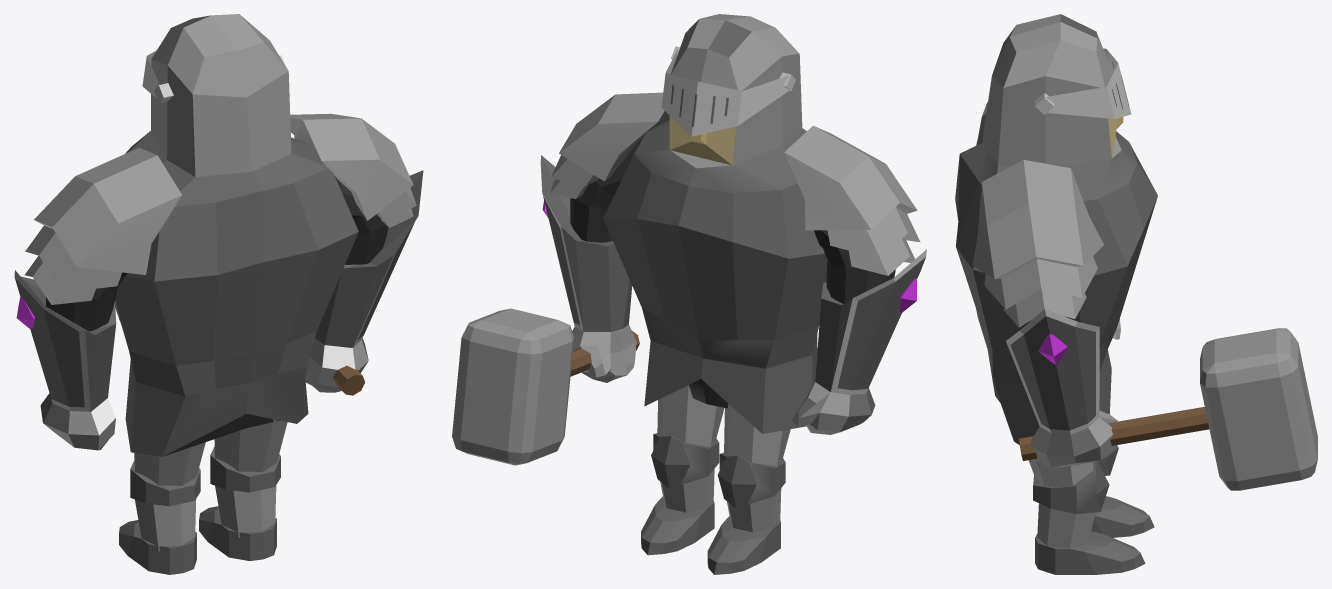
The model's file is NotAnimated.fbx.
3 views of the same model, side by side, from view 1: azimuth 30°, elevation 25°; view 2: azimuth 150°, elevation 25°; view 3: azimuth 270°, elevation 25° (orthographic). The views are drawn at different scales.
Visible parts, largest first — view 1: main_bodeh, shulder_ped, greave_bruh, armz_L, Cube_2, leg_R, Cube_2_2, Cube_3_2, Cylinder_1_2, Cylinder_1, leg_L, Cylinder_2 (+4 smaller); view 2: main_bodeh, greave_bruh, Cube, shulder_ped, halmut_clep, armz_L, Cube_2, leg_R, Cube_3_2, Cube_2_2, Cylinder_2, Cylinder_2_2 (+4 smaller); view 3: main_bodeh, Cube, shulder_ped, greave_bruh, Cube_3_2, Cube_2, halmut_clep, Cylinder, Cylinder_2_2, Cylinder_1_2, Cube_2_2, Cube_3 (+2 smaller).
Boxes of the visible parts, bbox=[...] form: main_bodeh: bbox=[115, 14, 358, 456]; shulder_ped: bbox=[34, 113, 413, 274]; greave_bruh: bbox=[14, 170, 423, 450]; armz_L: bbox=[46, 176, 388, 331]; Cube_2: bbox=[25, 187, 416, 292]; leg_R: bbox=[214, 419, 287, 472]; Cube_2_2: bbox=[119, 520, 196, 574]; Cube_3_2: bbox=[199, 506, 276, 560]; Cylinder_1_2: bbox=[215, 485, 276, 537]; Cylinder_1: bbox=[135, 499, 196, 551]; leg_L: bbox=[134, 442, 205, 485]; Cylinder_2: bbox=[130, 460, 200, 506]; main_bodeh: bbox=[603, 14, 827, 433]; greave_bruh: bbox=[540, 155, 926, 434]; Cube: bbox=[452, 308, 574, 465]; shulder_ped: bbox=[559, 92, 917, 230]; halmut_clep: bbox=[661, 46, 795, 136]; armz_L: bbox=[570, 140, 895, 303]; Cube_2: bbox=[551, 155, 920, 258]; leg_R: bbox=[657, 385, 724, 446]; Cube_3_2: bbox=[641, 496, 714, 555]; Cube_2_2: bbox=[707, 516, 780, 574]; Cylinder_2: bbox=[717, 452, 785, 507]; Cylinder_2_2: bbox=[651, 433, 719, 488]; main_bodeh: bbox=[955, 14, 1157, 444]; Cube: bbox=[1200, 328, 1317, 490]; shulder_ped: bbox=[972, 102, 1103, 279]; greave_bruh: bbox=[1006, 309, 1120, 467]; Cube_3_2: bbox=[1035, 531, 1145, 574]; Cube_2: bbox=[984, 256, 1097, 309]; halmut_clep: bbox=[1035, 48, 1131, 118]; Cylinder: bbox=[1019, 407, 1209, 460]; Cylinder_2_2: bbox=[1033, 461, 1109, 513]; Cylinder_1_2: bbox=[1037, 503, 1095, 548]; Cube_2_2: bbox=[1091, 496, 1154, 537]; Cube_3: bbox=[1003, 288, 1086, 327].
Bounding box in the file's own units: 629 × 800 × 502.
Materials: 1 (1 with a texture image).
